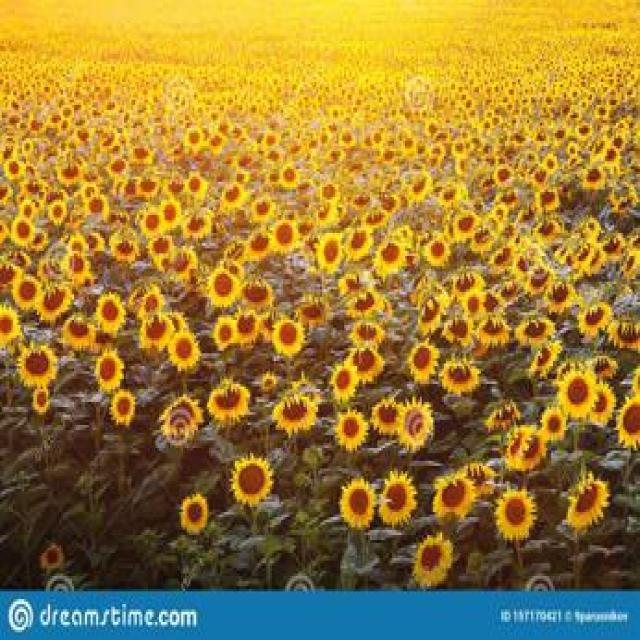sunflower: (408, 525, 460, 594), (564, 467, 609, 534), (228, 453, 278, 512), (488, 482, 536, 542), (555, 364, 603, 424), (428, 464, 476, 524), (265, 315, 321, 366), (337, 471, 377, 538), (378, 467, 419, 531), (12, 338, 60, 392), (156, 393, 202, 449), (263, 388, 322, 431), (200, 378, 253, 421), (572, 296, 616, 347), (373, 230, 412, 284), (204, 266, 244, 315), (435, 355, 479, 398), (395, 398, 432, 449), (163, 324, 200, 372), (32, 282, 78, 320), (312, 226, 345, 278), (405, 338, 438, 389), (92, 289, 126, 338), (177, 488, 211, 536), (327, 361, 359, 410), (104, 383, 138, 429), (210, 310, 243, 356), (333, 408, 368, 449), (419, 229, 454, 270), (265, 215, 299, 256), (90, 351, 123, 392), (473, 312, 507, 351), (417, 294, 448, 336), (514, 316, 556, 346), (369, 399, 403, 436), (452, 207, 480, 251), (486, 399, 522, 433), (351, 314, 383, 352), (9, 212, 37, 254), (219, 179, 251, 213), (63, 246, 91, 284), (274, 157, 301, 196), (137, 202, 166, 238), (488, 156, 518, 190), (181, 168, 209, 201), (81, 194, 111, 222), (405, 171, 429, 205), (184, 124, 206, 155)
